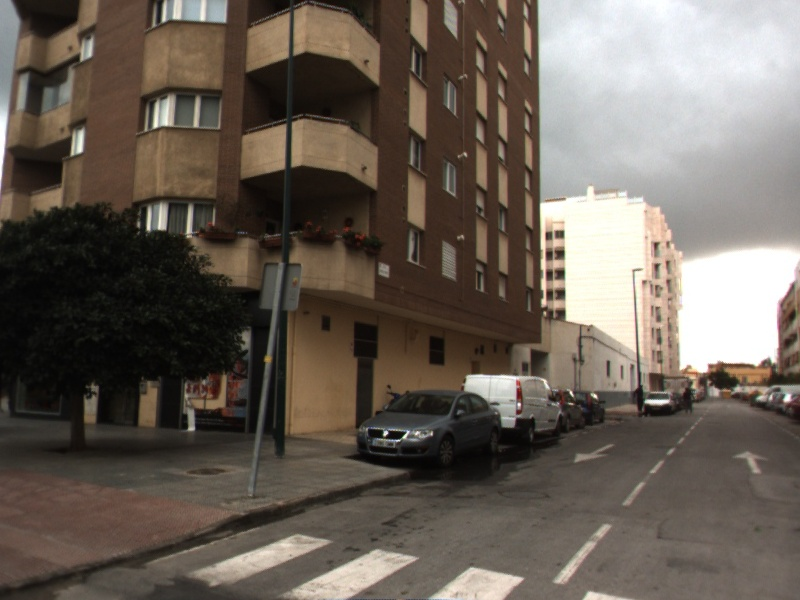STRAIGHT: (729, 449, 772, 475)
